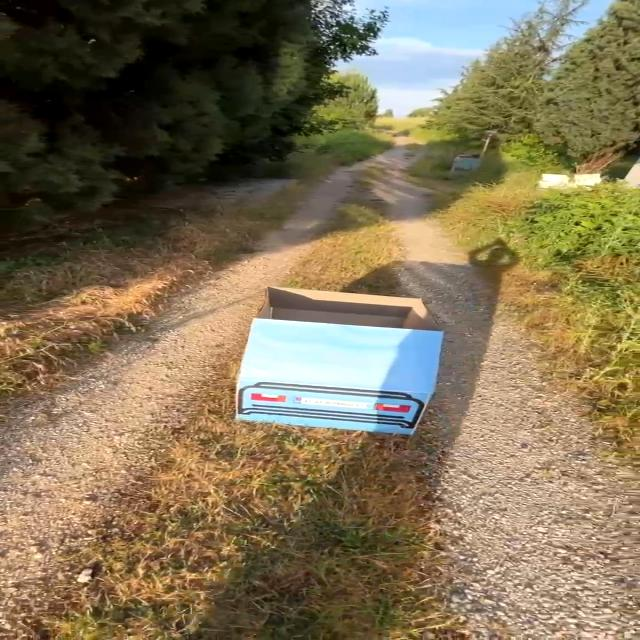blue_car: (172, 246, 498, 458)
